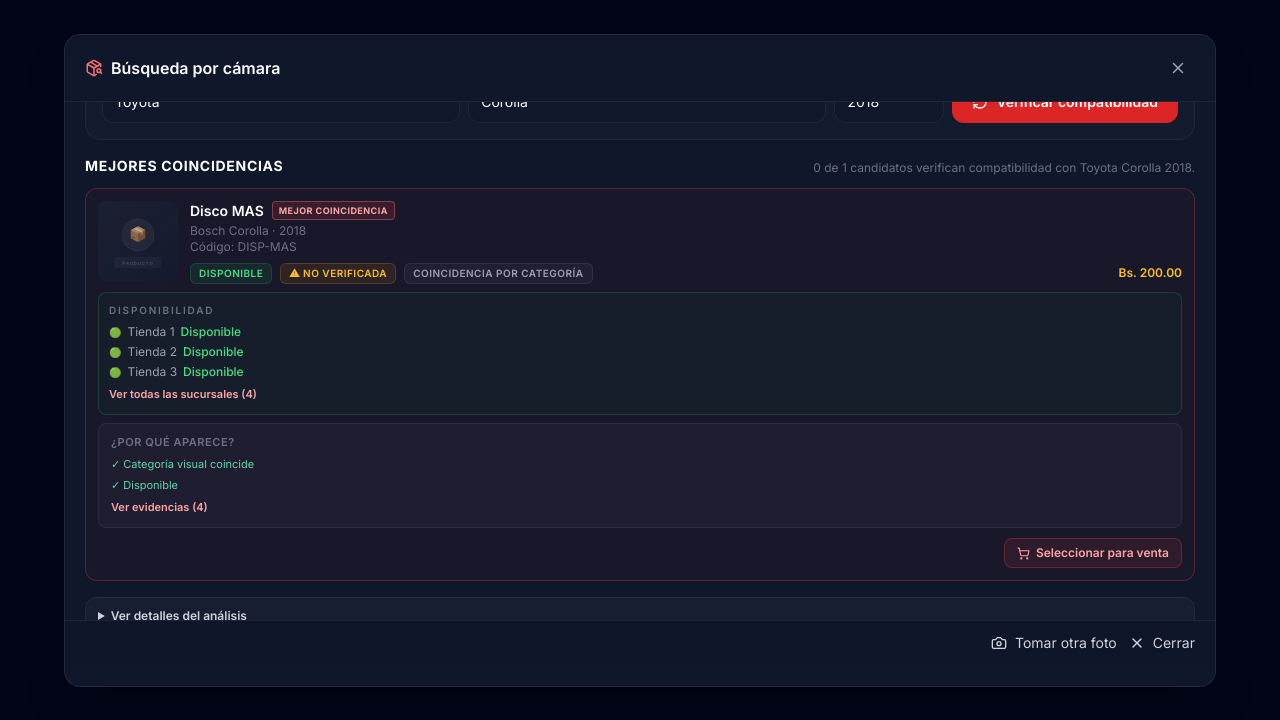
Test: DISPONIBILIDAD por sucursal — sección compacta en cada card › muestra por defecto hasta 3 sucursales y 'Ver todas las sucursales' si hay más
The image size is (1280, 720).
(page scrolled)
Check: the list item with test id "disp-sucursal-DISP-MAS-101" is shown, box [109,324,241,338]
Check: the list item with test id "disp-sucursal-DISP-MAS-102" is shown, box [109,344,244,358]
Step 1. Click the button with test id "disp-ver-todas-DISP-MAS" → (183, 394), box [109,386,257,402]
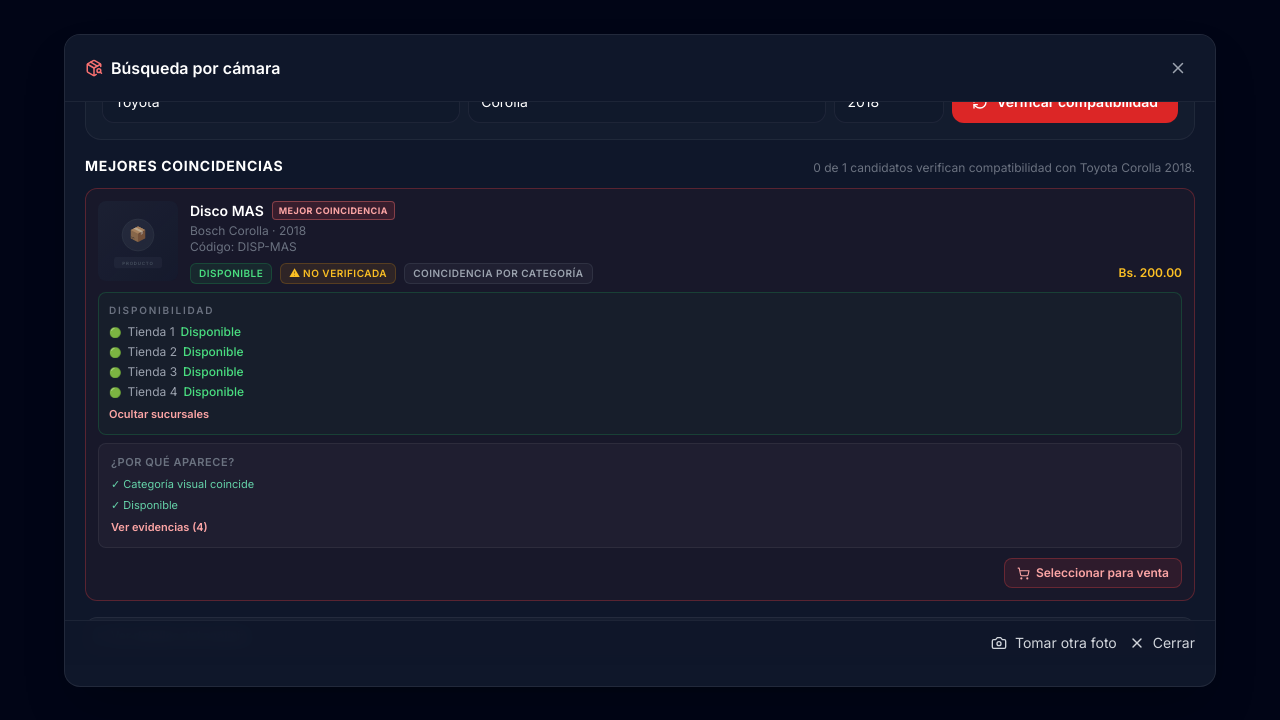
Check: the list item with test id "disp-sucursal-DISP-MAS-104" is shown, box [109,384,244,398]
Check: the button "Ocultar sucursales" is shown, box [109,406,209,422]
